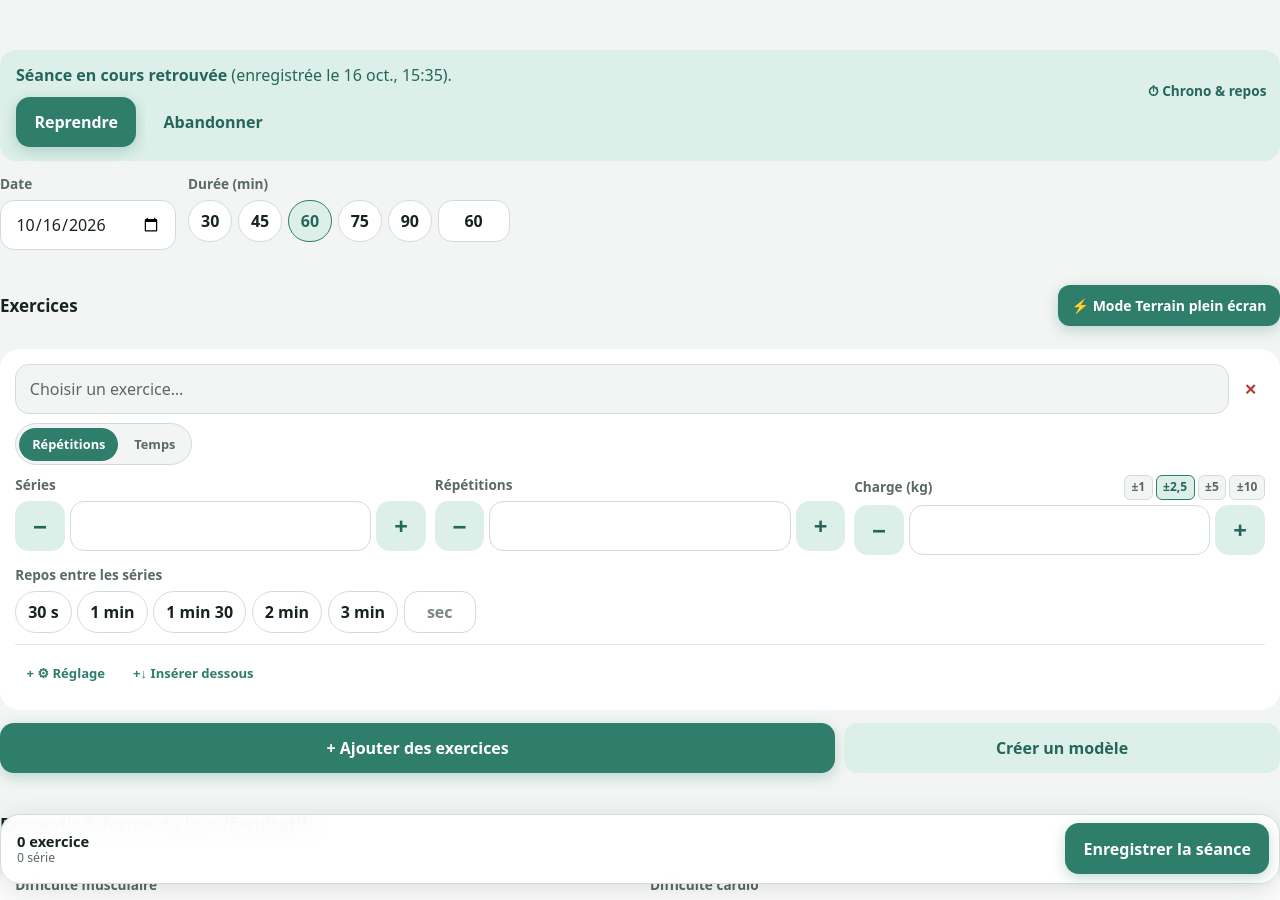
Scenario: NouvelleSeance - Sauvegarde du brouillon et Mode Terrain ([P1-02]) › permet de reprendre le brouillon directement depuis le Mode Terrain
Note: Basculer en Mode Terrain
Click the button "⚡ Mode Terrain plein écran": (1169, 306) [1058,285,1279,326]
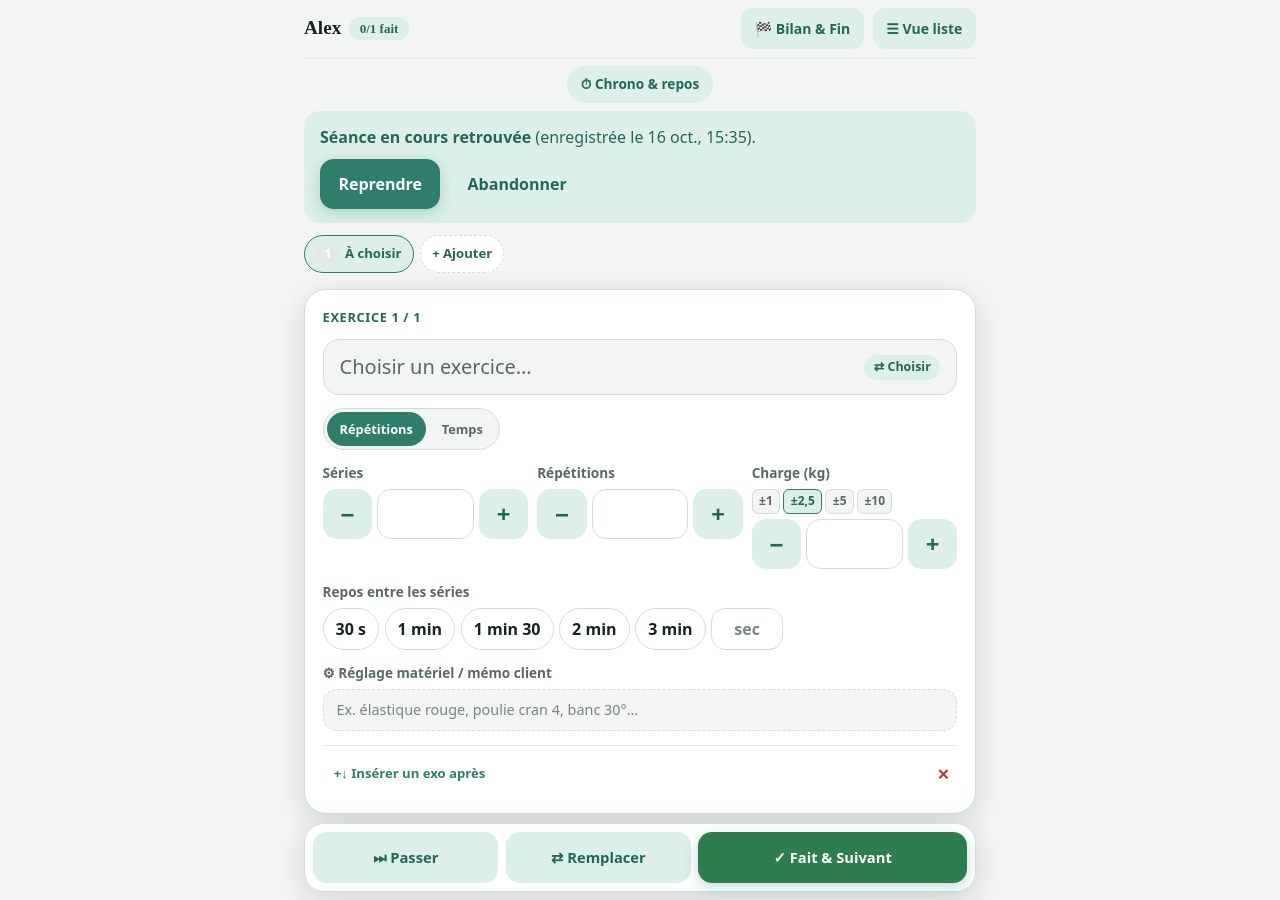
Note: Cliquer sur "Reprendre" dans le bandeau
Click the button "Reprendre": (380, 184) [320,159,440,209]
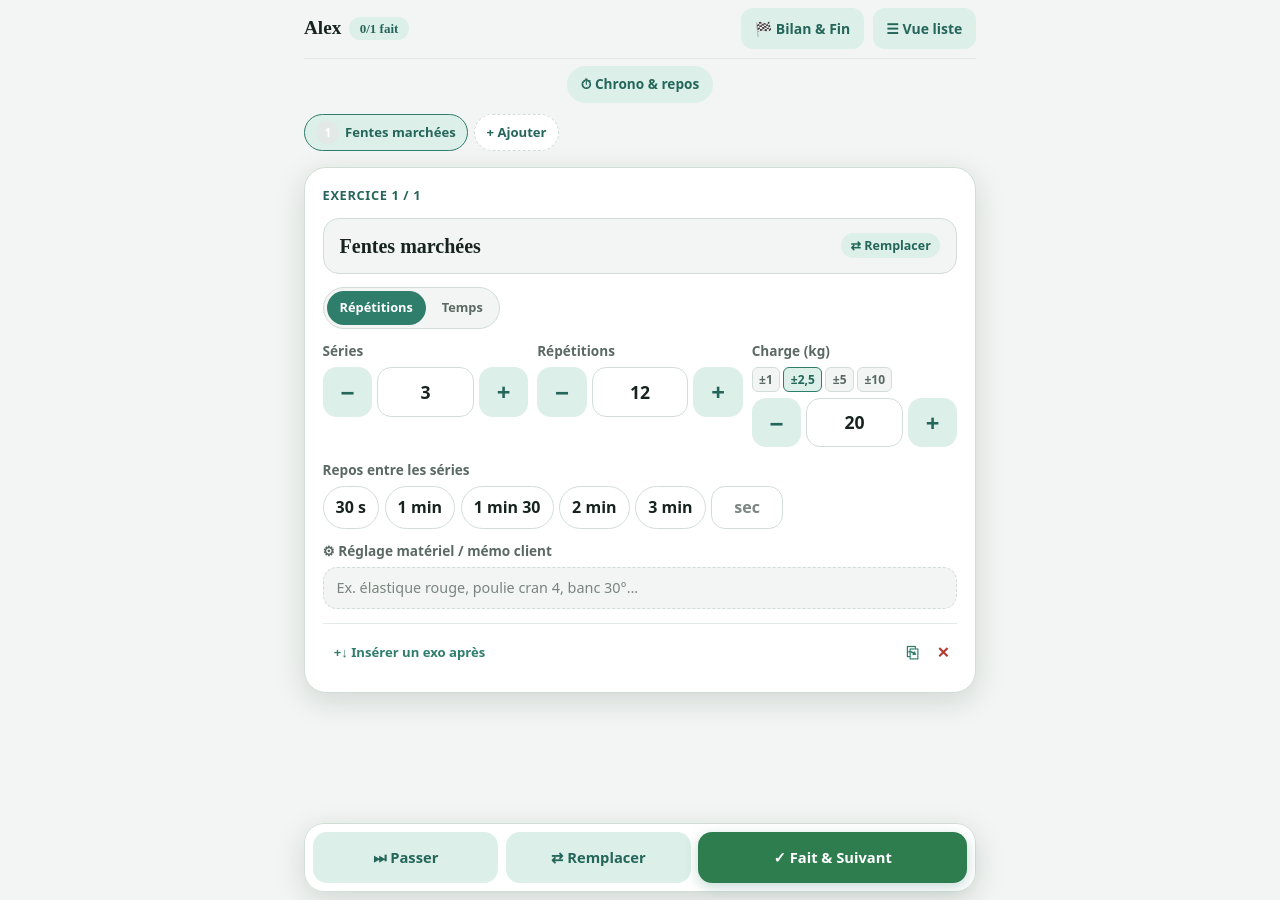
Expected: the text "Séance en cours retrouvée" is gone
